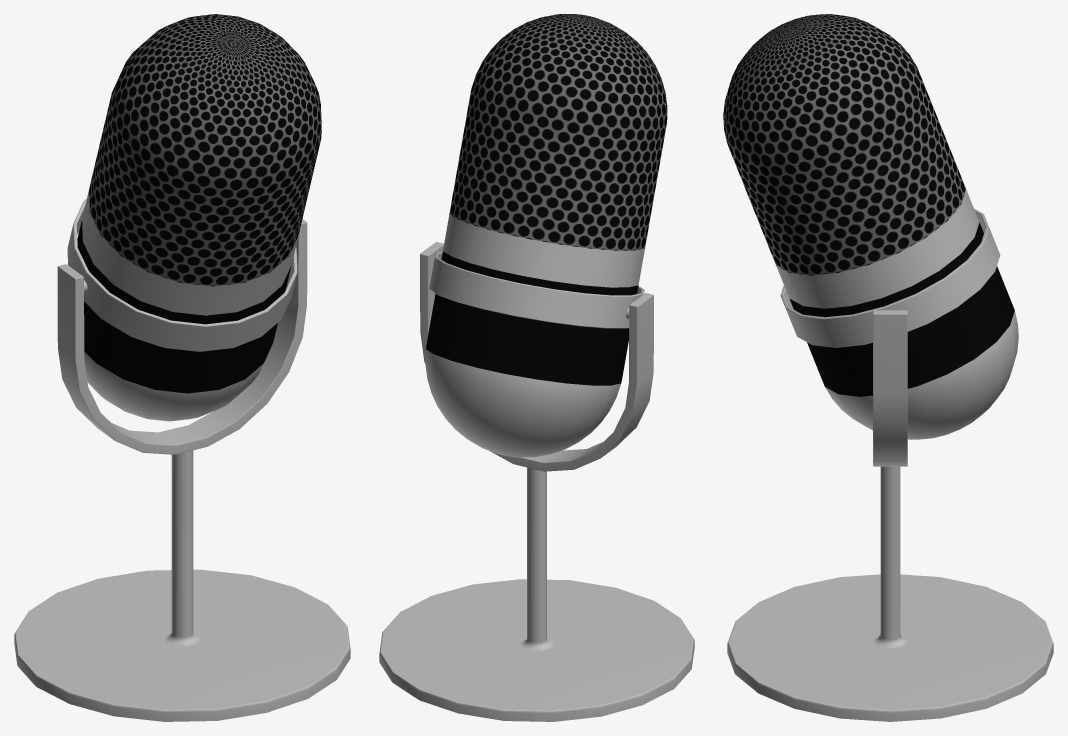
The model's file is microphone.glb.
3 renders of one model, left to right at view 1: azimuth 30°, elevation 25°; view 2: azimuth 150°, elevation 25°; view 3: azimuth 270°, elevation 25°, orthographic. The views are drawn at different scales.
Visible parts, largest first — view 1: Mic, Stand, Ring; view 2: Mic, Stand, Ring; view 3: Mic, Stand, Ring.
Boxes of the visible parts, left/top/right/bottom form: Mic: left=77, top=14, right=321, bottom=421; Stand: left=14, top=219, right=350, bottom=721; Ring: left=67, top=199, right=297, bottom=351; Mic: left=425, top=14, right=667, bottom=457; Stand: left=379, top=242, right=694, bottom=721; Ring: left=429, top=251, right=644, bottom=328; Mic: left=723, top=14, right=1018, bottom=439; Stand: left=727, top=310, right=1053, bottom=721; Ring: left=780, top=208, right=1000, bottom=347.
Bounding box in the file's own units: 0.0472 × 0.1001 × 0.0477.
Materials: 3 (1 with a texture image).
